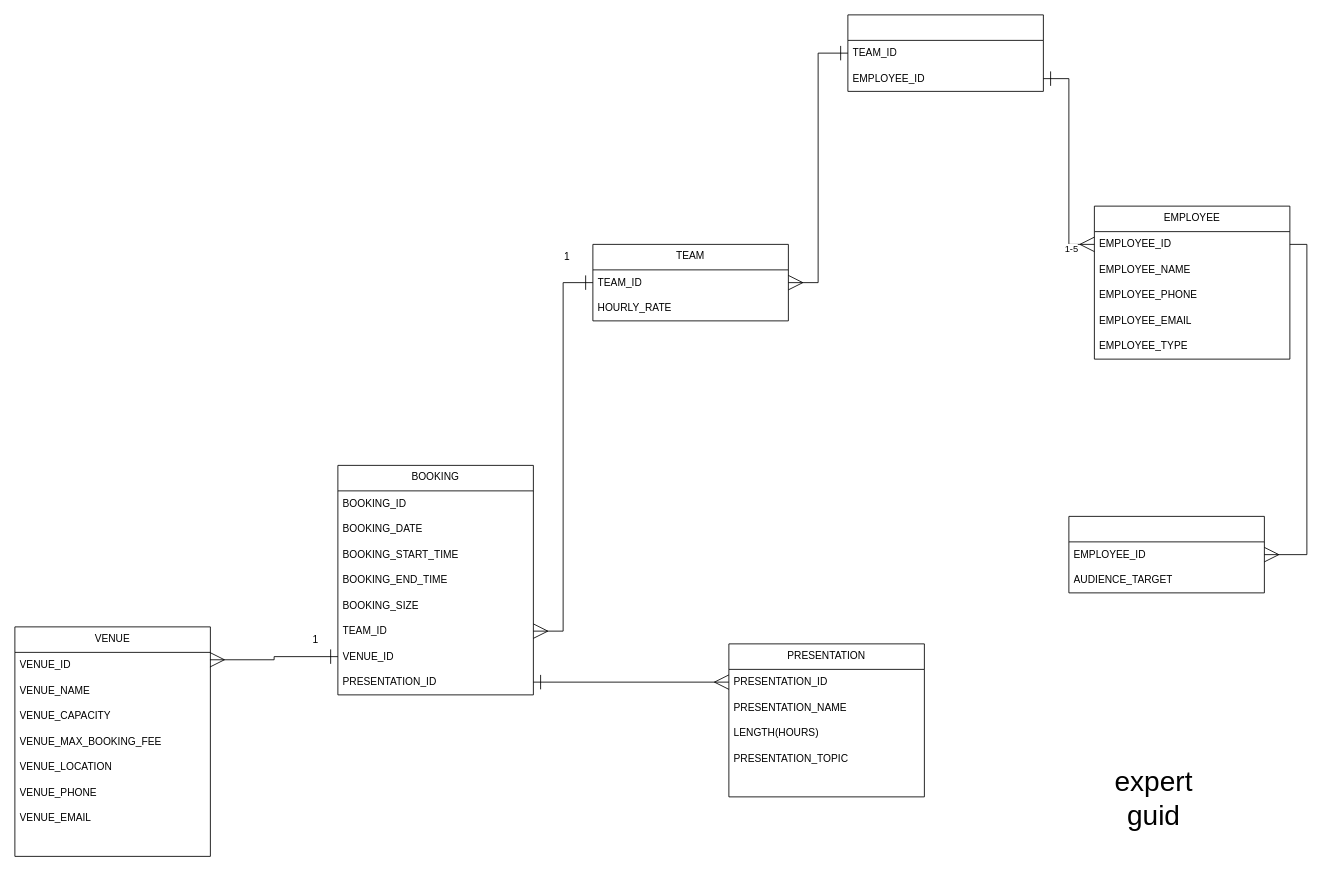
This 1336x871 diagram has some shape labels left out. The shapes that lost their labels are listed below. From the top down, each one's box as (x1, y1, x2, y2) in pixels, then its label:
(847, 14, 1043, 91): TEAM_MEMBER
(1068, 516, 1264, 593): TARGET_AUDIENCE
